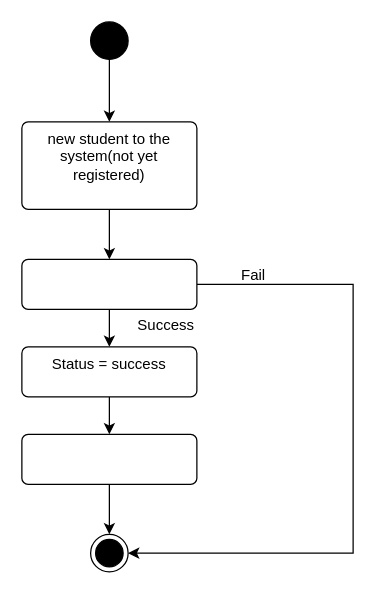
Some shapes in this 385 by 594 pixel diagram are drawn without their labels. Each missing label, with the box of its shape:
Become a member of the club: (21, 433, 197, 484)
register an account: (21, 258, 197, 309)
